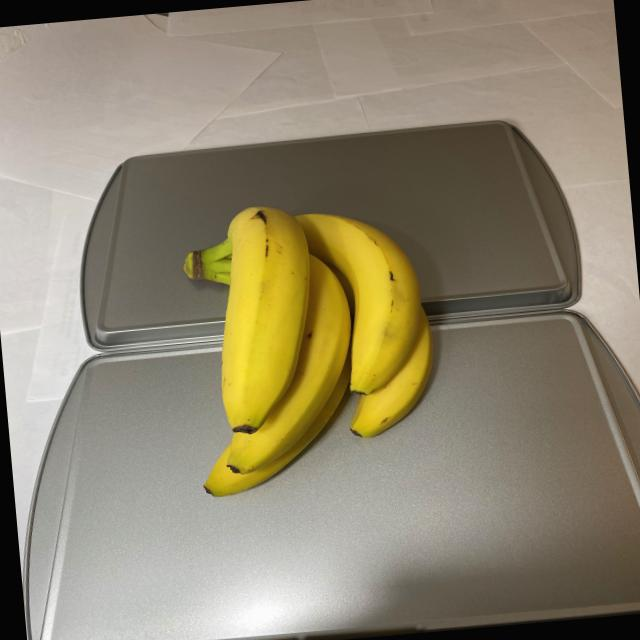banana: (173, 188, 450, 506)
